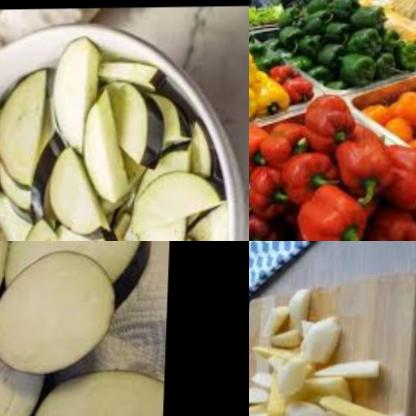bell pepper: (249, 89, 416, 241), (352, 48, 416, 241), (264, 0, 416, 81), (249, 9, 298, 139)
eggplant: (0, 29, 214, 241), (0, 250, 112, 373), (0, 241, 148, 315), (25, 365, 160, 416), (0, 301, 59, 416)
potato: (249, 277, 416, 416)
